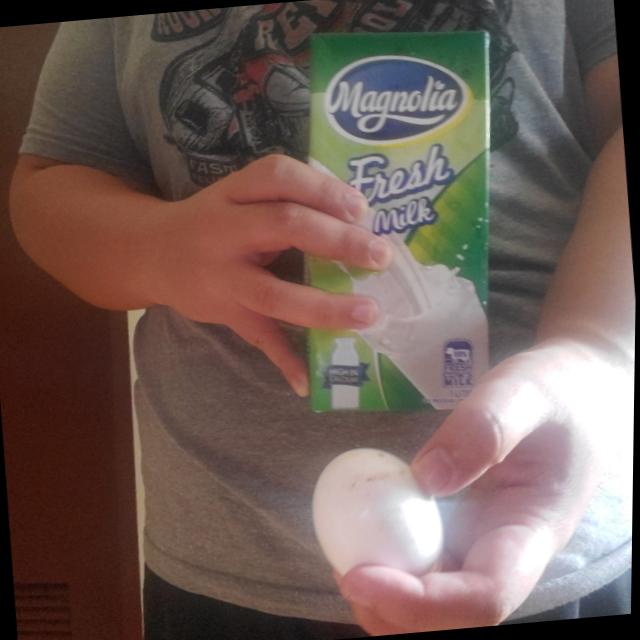egg: (306, 441, 451, 588)
milk: (274, 18, 523, 418)
